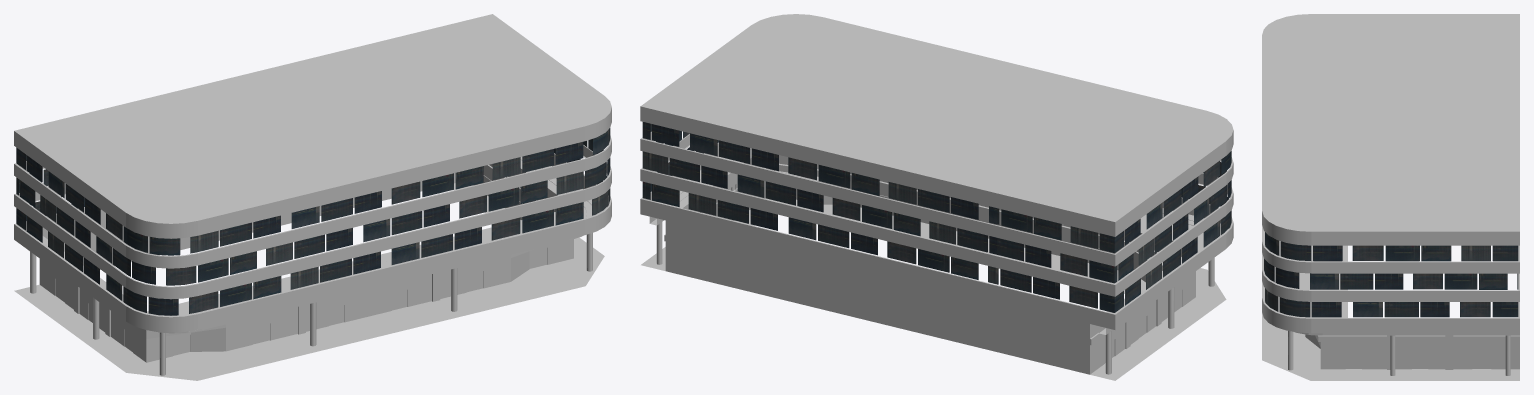
3 views of the same model, side by side, from view 1: azimuth 30°, elevation 25°; view 2: azimuth 150°, elevation 25°; view 3: azimuth 270°, elevation 25° (orthographic). The views are drawn at different scales.
Visible parts, largest first — view 1: DC-07; view 2: DC-07; view 3: DC-07.
Boxes of the visible parts, box(x1,y1,x2,y2) form: DC-07: box(14, 14, 611, 380); DC-07: box(640, 14, 1233, 380); DC-07: box(1262, 14, 1519, 380).
Size of what is drawn, in the model's own units: 72 by 23 by 36.
